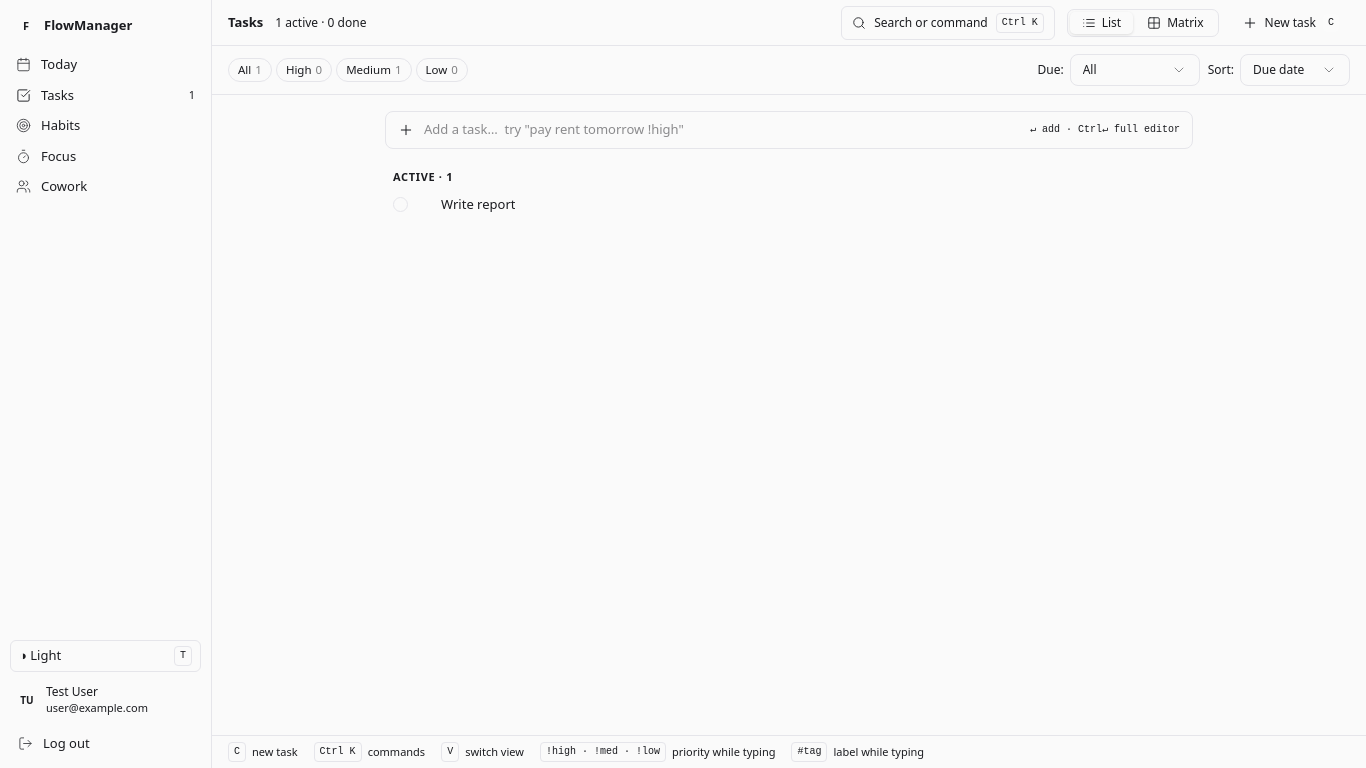
Test case: TasksPage › filters by priority chips and offers Clear filters in the empty state
The width and height of the screenshot is (1366, 768).
Click the button "High0". click: (304, 70)
box: [276,58,332,82]
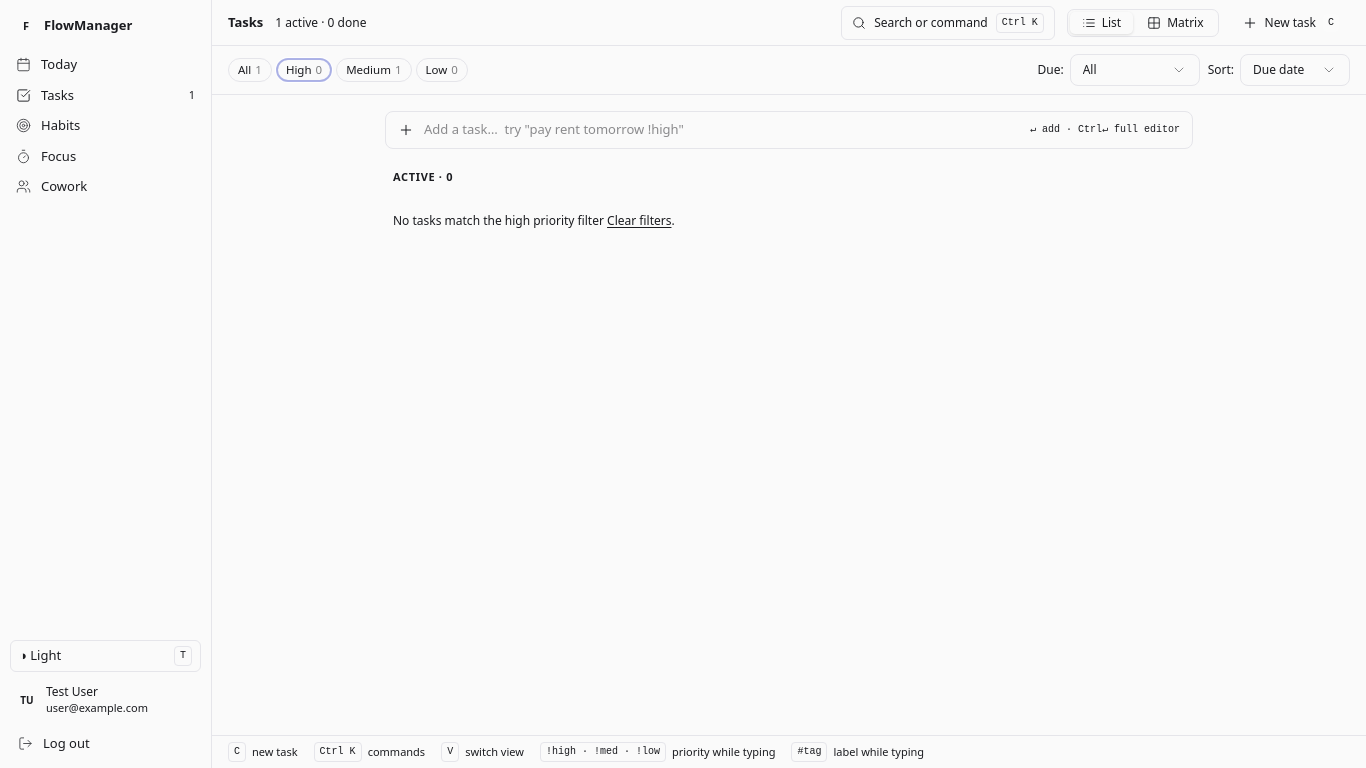
expect the text "No tasks match the high priority filter Clear filters ." is shown: met, box [393,212,675,230]
Click the button "Clear filters". click: (639, 221)
box: [607,212,672,230]
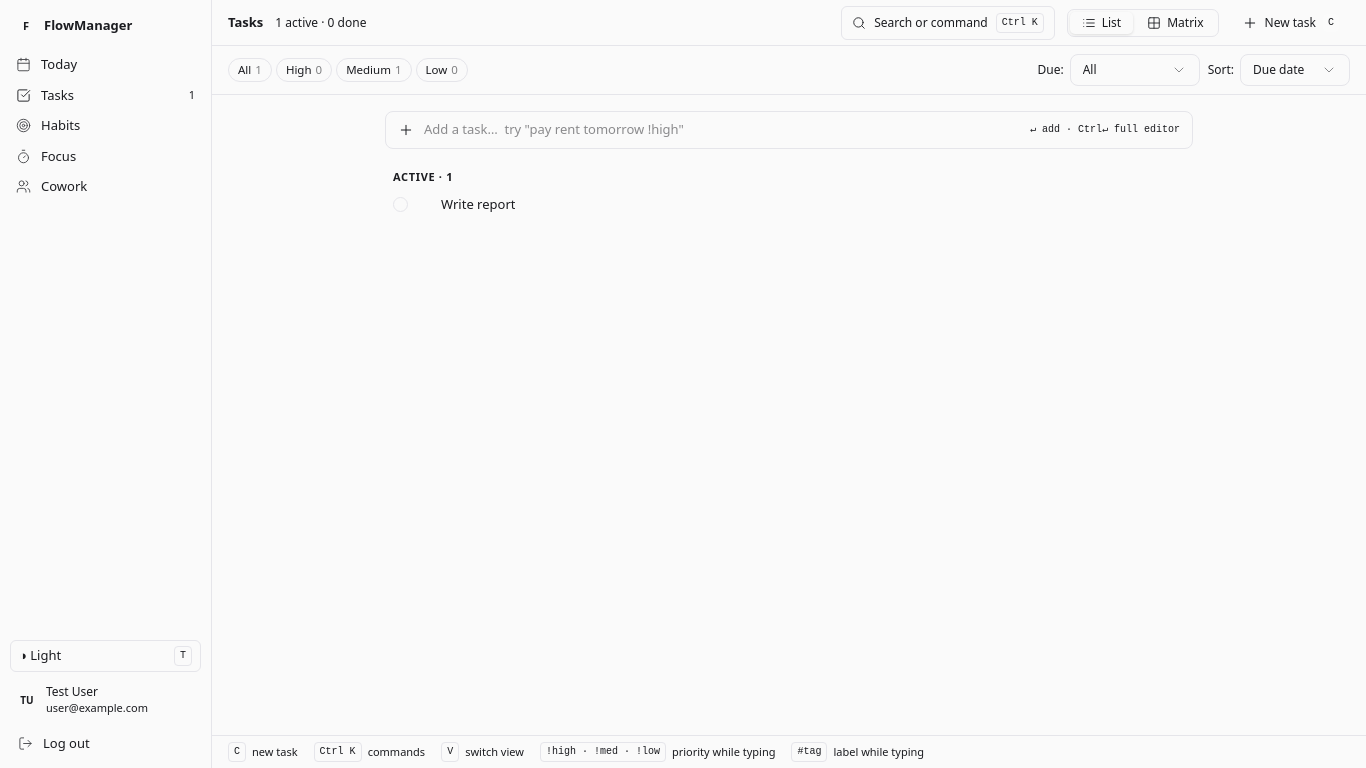
expect the text "Write report" is shown: met, box [441,195,516,215]
